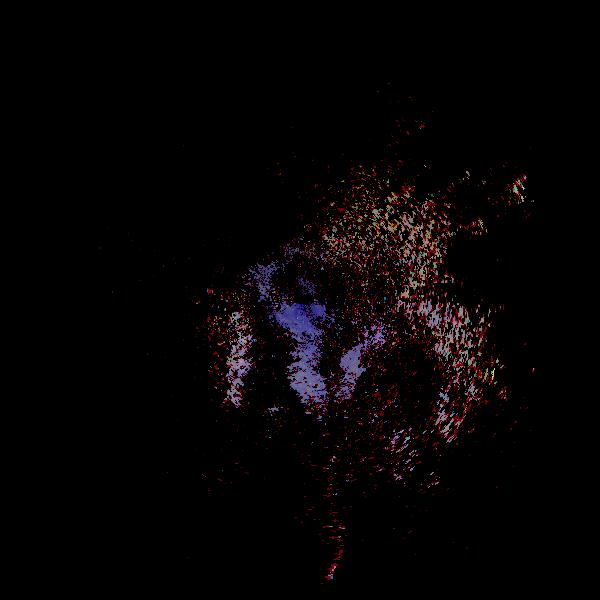roost: (260, 495, 359, 594)
